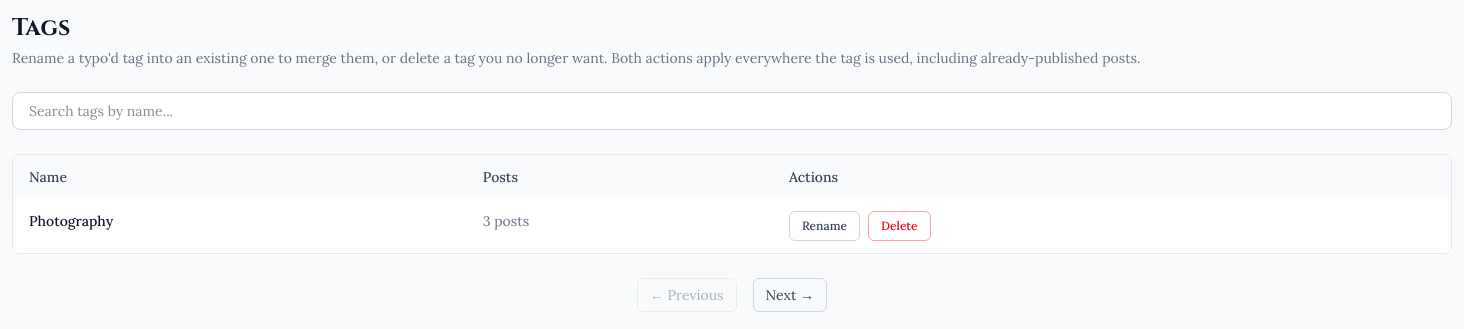
TagsPage — search and pagination › shows Next when hasMore and fetches the next page using nextCursor
Step 1. Click the button "Next →" → click(790, 295), box [752,278,827,312]
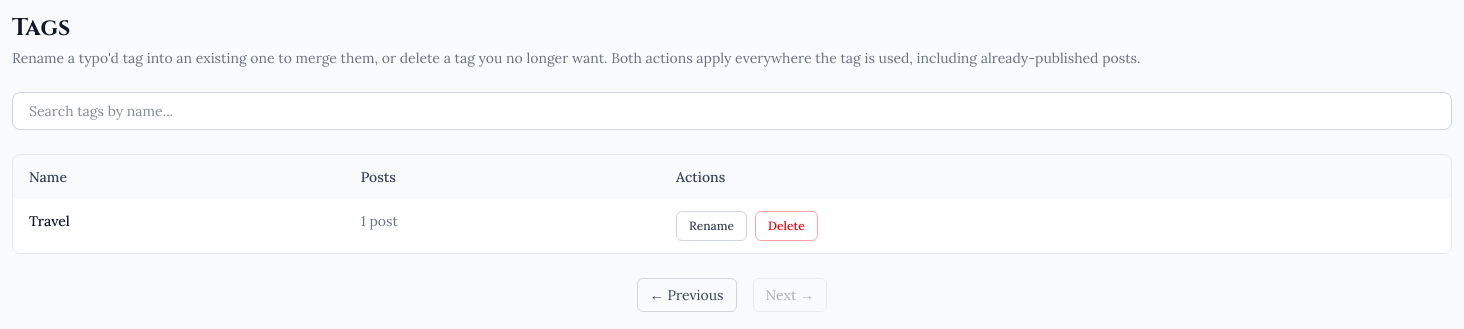
Check: the text "Travel" is shown, box [29,212,70,230]
